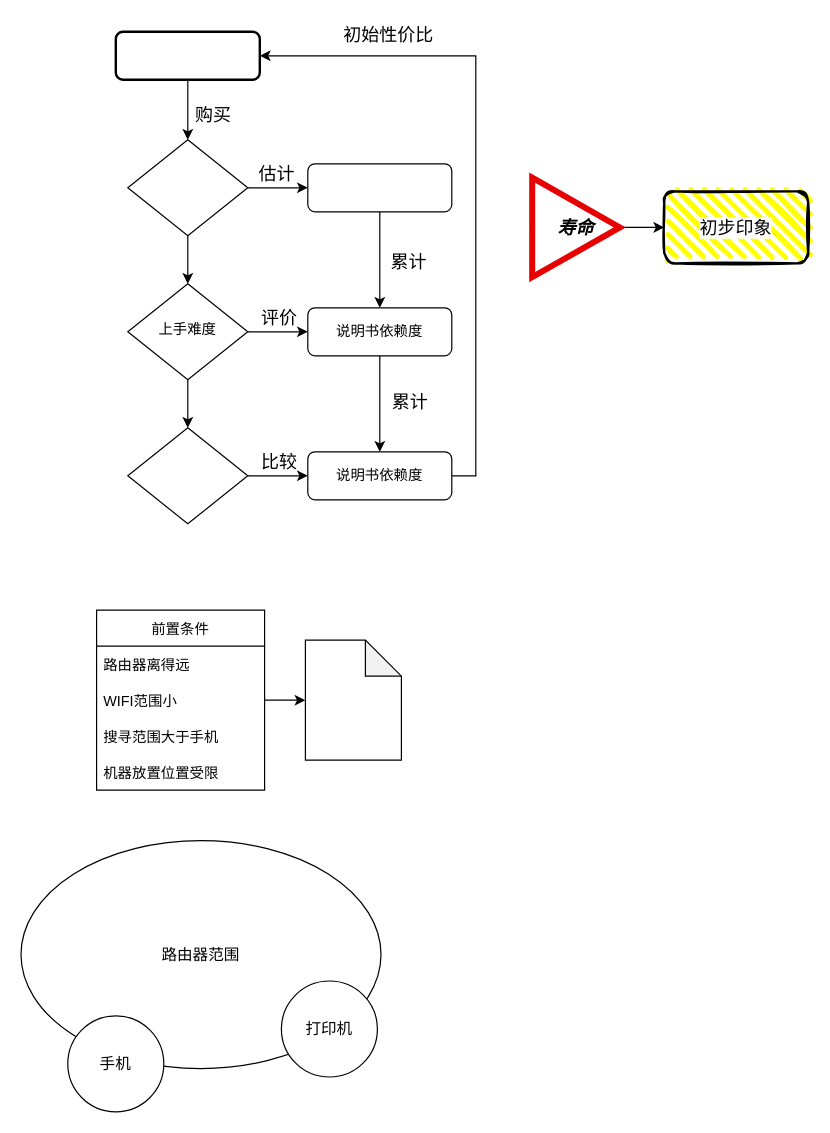
Some shapes in this 830 by 1133 pixel diagram are drawn without their labels. The box of each missing label's shape, as (x1, y1, x2, y2) in pixels:
使用场景、频率: (307, 163, 452, 212)
受苦: (304, 639, 401, 760)
实用性: (127, 139, 248, 236)
整体价格: (127, 427, 248, 524)
物联网产品: (114, 30, 260, 80)
